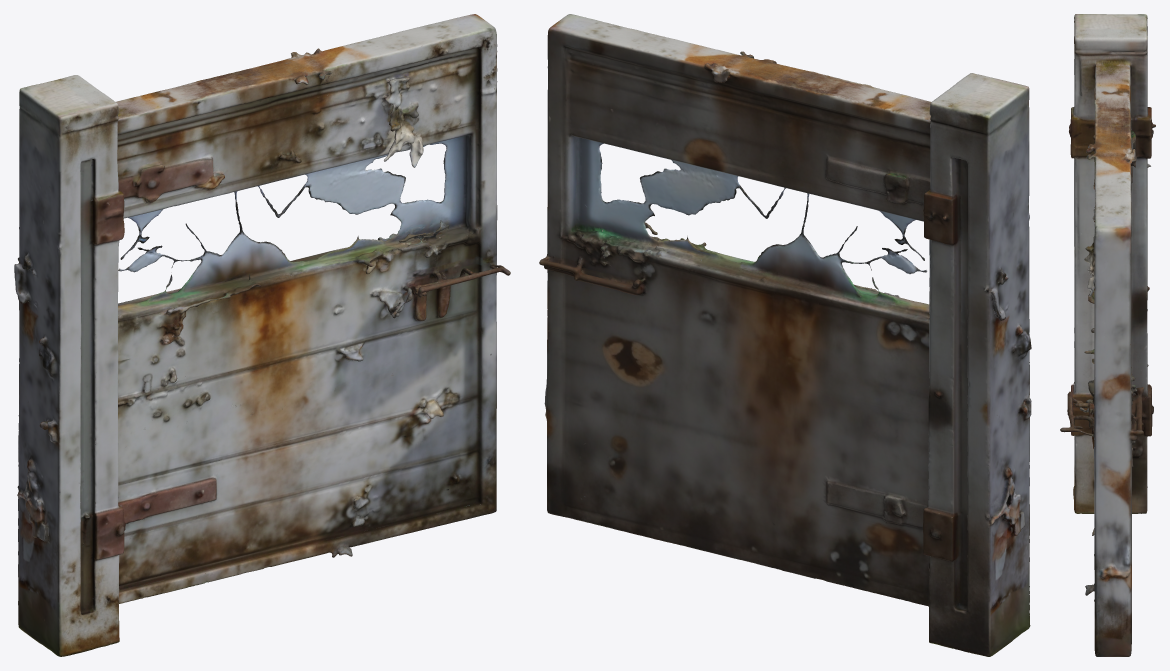
Rendered from Meshy_AI_Rusty_Gate_with_Broke_0506123937_texture.fbx.
3 renders of one model, left to right at view 1: azimuth 30°, elevation 25°; view 2: azimuth 150°, elevation 25°; view 3: azimuth 270°, elevation 25°, orthographic. The views are drawn at different scales.
Parts seen in each view (by area): view 1: Mesh_0; view 2: Mesh_0; view 3: Mesh_0.
Part boxes in pixels (x1,y1,x2,y2): Mesh_0: (14,14,510,656); Mesh_0: (539,14,1031,656); Mesh_0: (1060,14,1155,656).
Bounding box in the file's own units: 179 × 200 × 36.56.
Materials: 1 (1 with a texture image).
